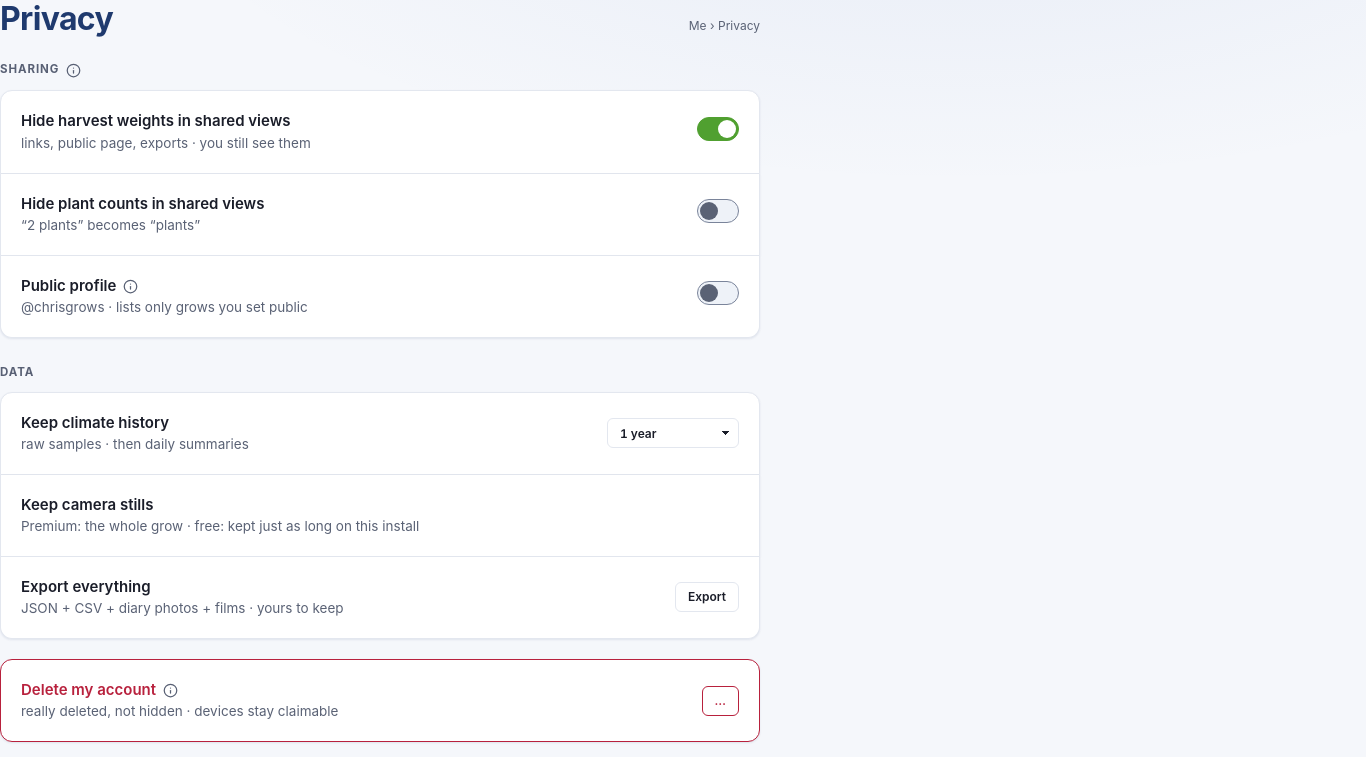
Test: how long anything is kept › leaves the account and the menu where they were when the question is put away
Expected: the switch named "Public profile" is shown, 697,282 -> 739,306
Select "90 days" in the dropdown named "Keep climate history" at (673, 433), box 607,418 -> 739,448
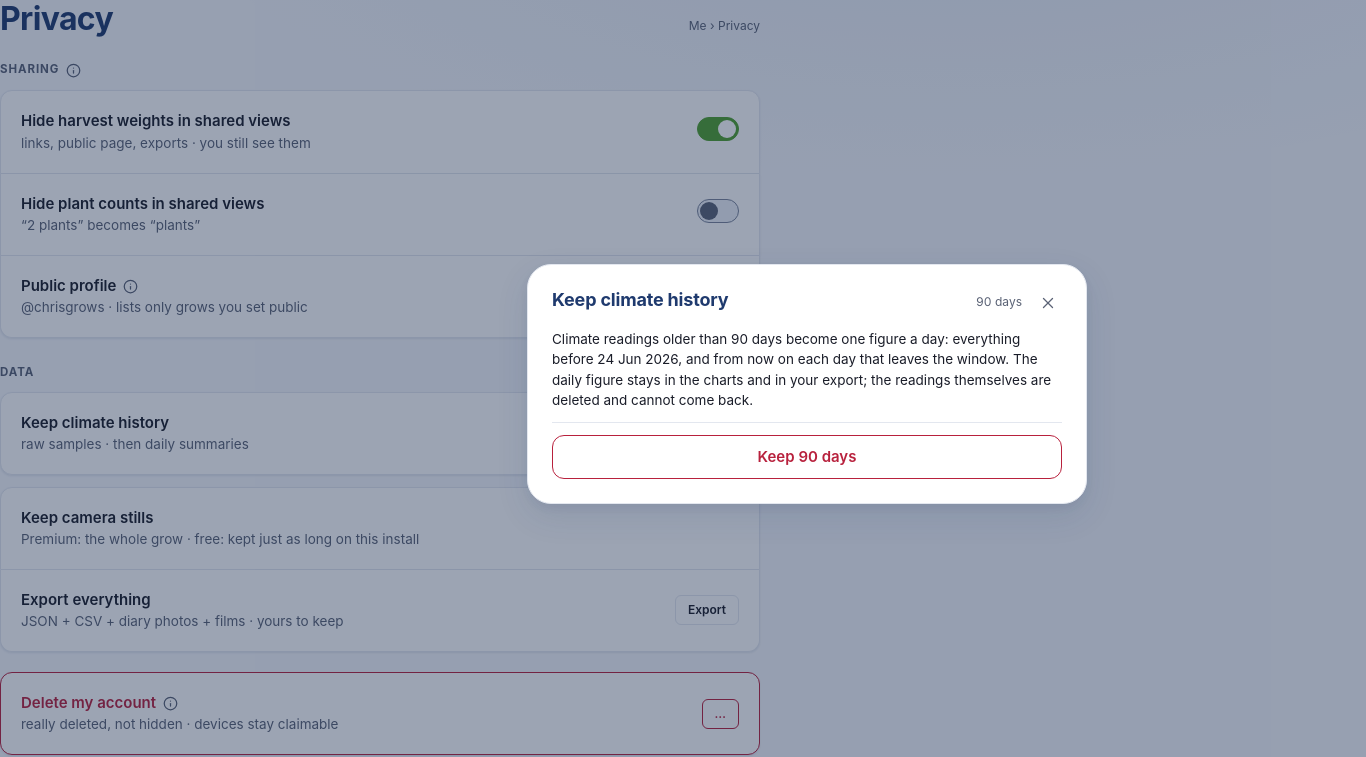
Click the button named "Close" at (1048, 303), box 1034,289 -> 1062,317
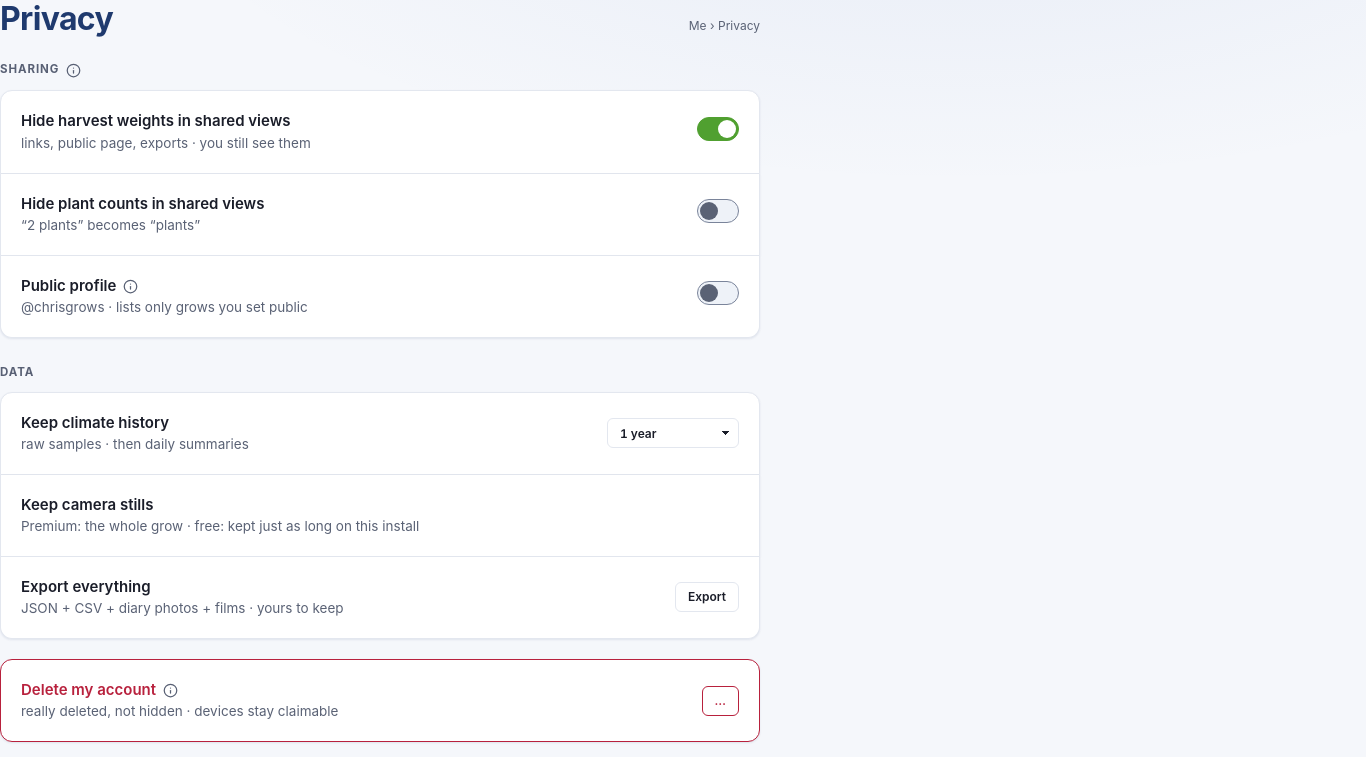
Expected: the dialog is gone
